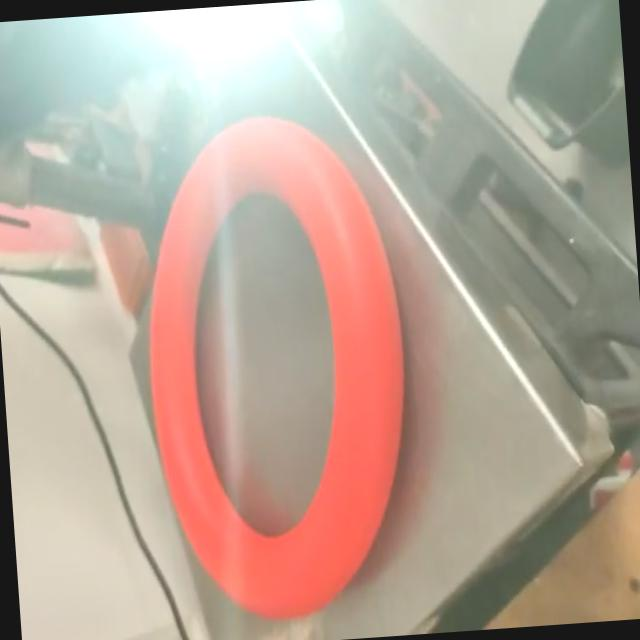note: (128, 105, 429, 632)
